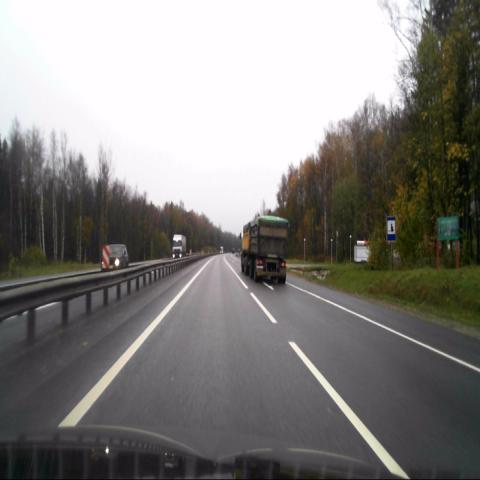7_11: (387, 217, 396, 240)
